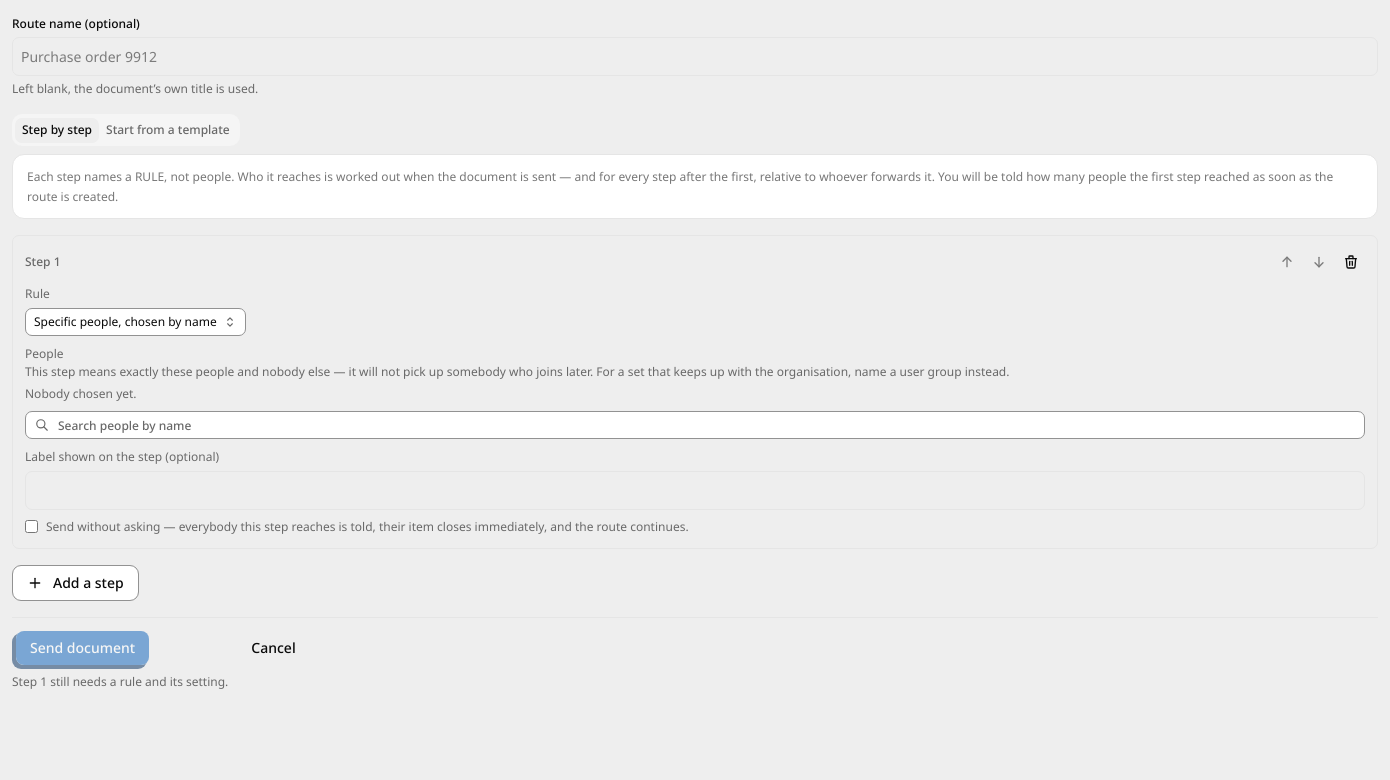
Scenario: RouteComposer — naming a user group › asks the server who the group reaches, and shows the count with its caveat
Step 1. Click the dropdown named "Rule" → (135, 322), box [25,308,246,336]
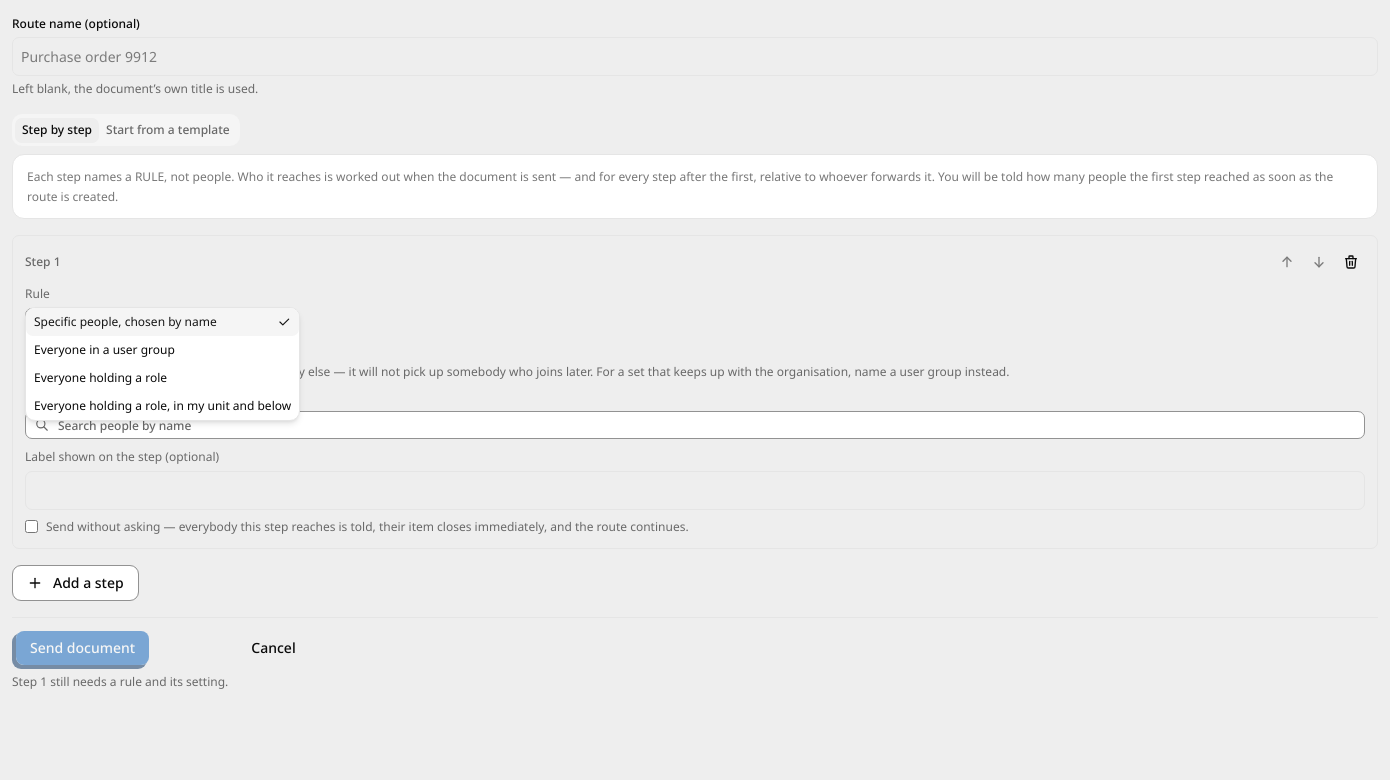
Step 2. Click the option "Everyone in a user group" → (104, 349), box [34,341,175,358]
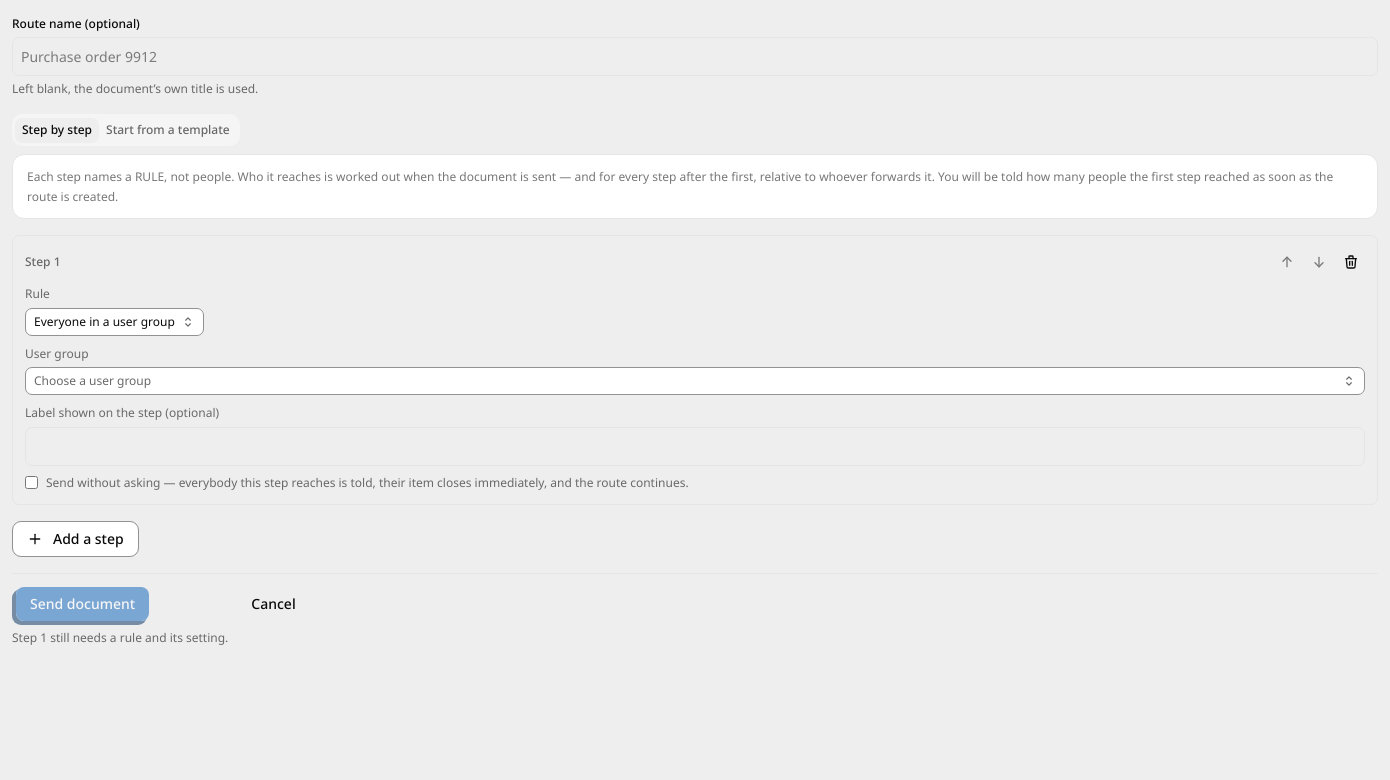
Step 3. Click the dropdown labelled "user group" → (93, 381), box [25,367,1365,395]
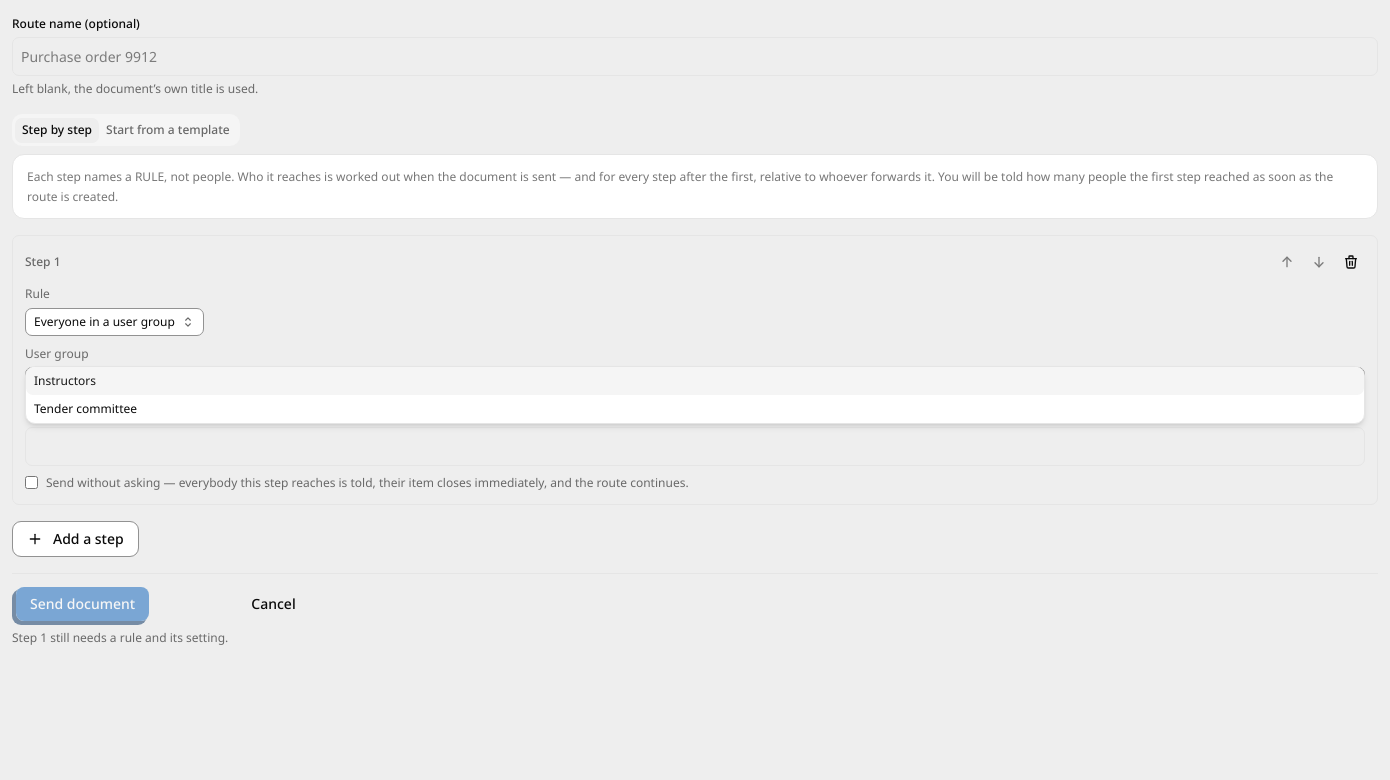
Step 4. Click the option "Instructors" → (65, 381), box [26,367,1364,395]
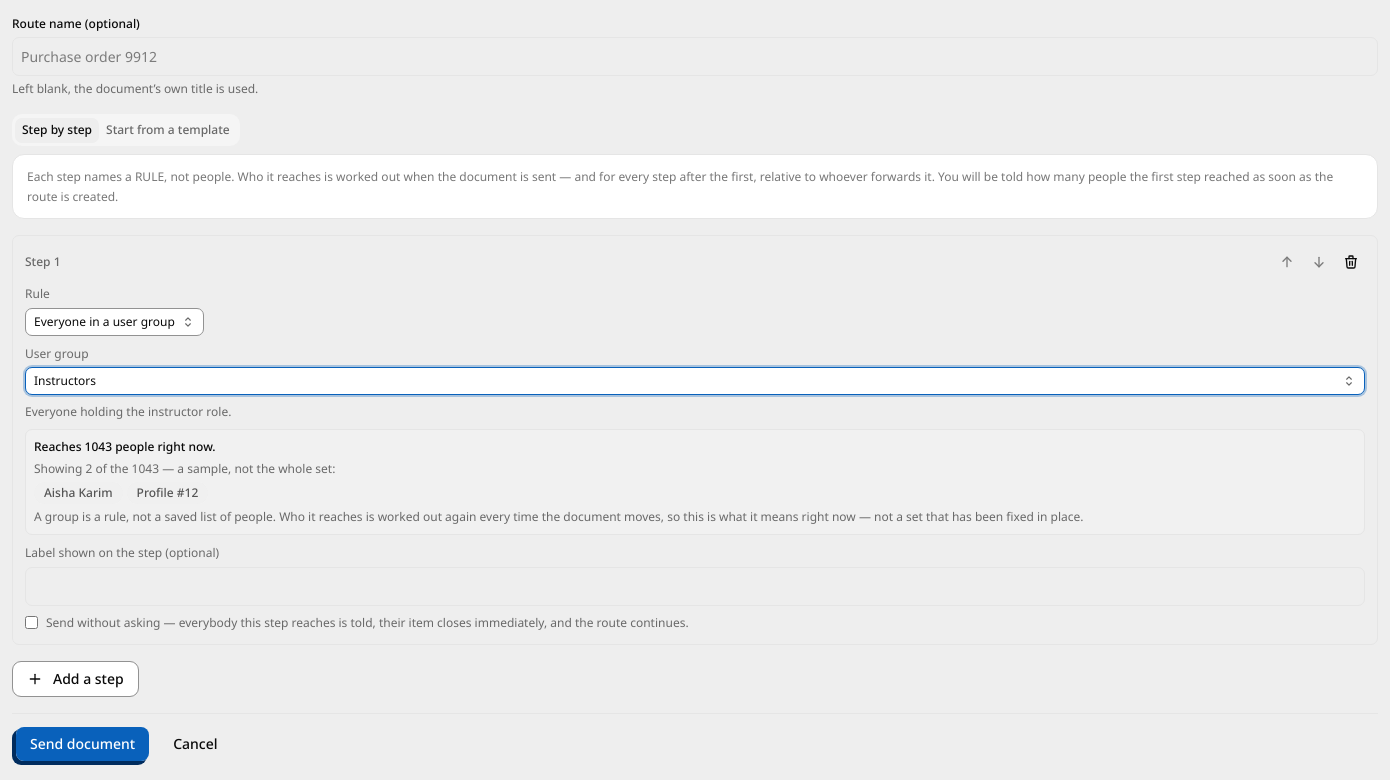
Expected: the text "Reaches 1043 people right now." is shown, [34,438,216,455]
Expected: the text "Showing 2 of the 1043 — a sample, not the whole set:" is shown, [34,460,335,477]
Expected: the text "Profile #12" is shown, [127,482,208,504]
